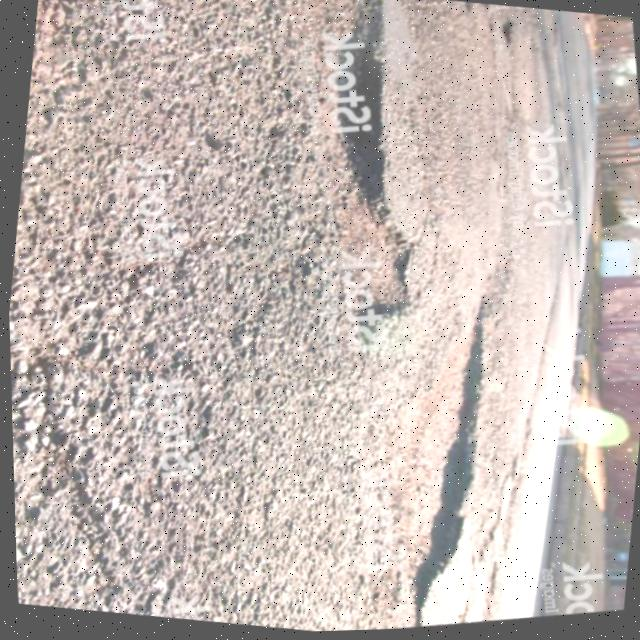Pothole: (206, 0, 472, 358), (367, 288, 550, 632)
